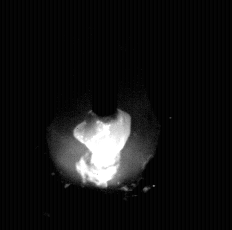arame: (90, 0, 119, 123)
poca: (45, 0, 158, 230)
